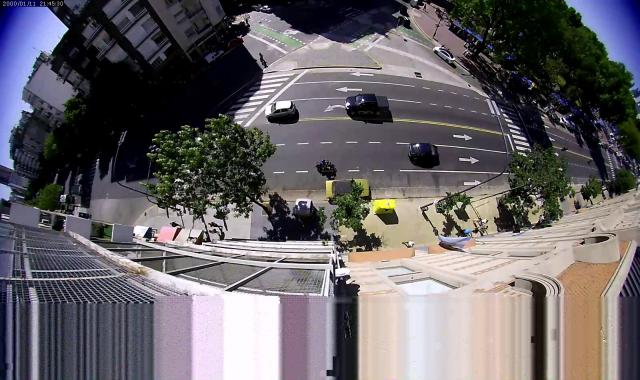bus: (72, 185, 87, 194), (60, 194, 73, 203), (76, 174, 87, 182)
car: (346, 93, 390, 115), (326, 179, 369, 198), (265, 101, 296, 120), (408, 143, 439, 161), (433, 47, 456, 63), (204, 50, 224, 63), (225, 37, 242, 49), (398, 16, 411, 26), (550, 114, 560, 122), (260, 6, 273, 12), (559, 117, 567, 125), (566, 121, 575, 128)
